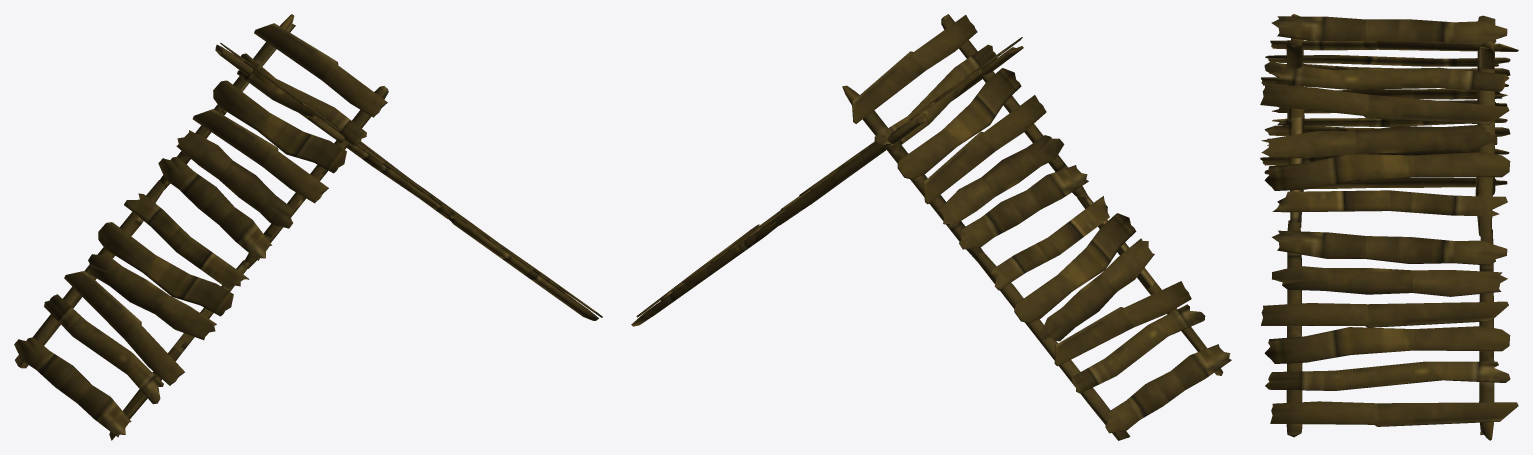
The model's file is roof_wood.fbx.
3 views of the same model, side by side, from view 1: azimuth 30°, elevation 25°; view 2: azimuth 150°, elevation 25°; view 3: azimuth 270°, elevation 25° (orthographic). The views are drawn at different scales.
Visible parts, largest first — view 1: ROOF, Roof; view 2: ROOF, Roof; view 3: Roof, ROOF.
Part boxes in pixels (<box>): ROOF: <box>14,14,388,440</box>; Roof: <box>215,43,602,320</box>; ROOF: <box>842,14,1231,440</box>; Roof: <box>631,37,1023,326</box>; Roof: <box>1260,14,1518,440</box>; ROOF: <box>1260,40,1518,195</box>.
Size of the model in its own units: 852 by 483 by 381.
